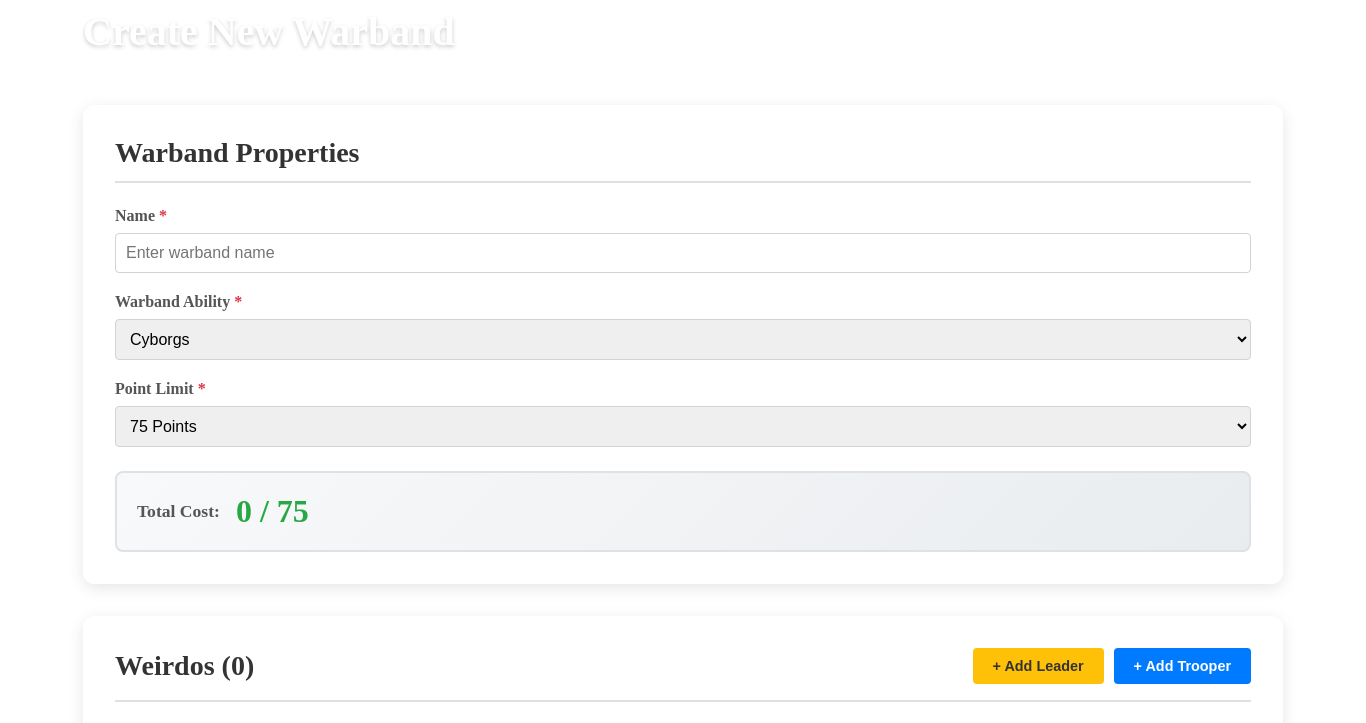
Test: WarbandEditor Component › Saving warband › should display success message after saving
Expected: the heading "Create New Warband" is shown, [83, 8, 455, 55]
Type "New Warband" into the field labelled "Name *" at x=683, y=253, box [115, 233, 1251, 273]
(page scrolled)
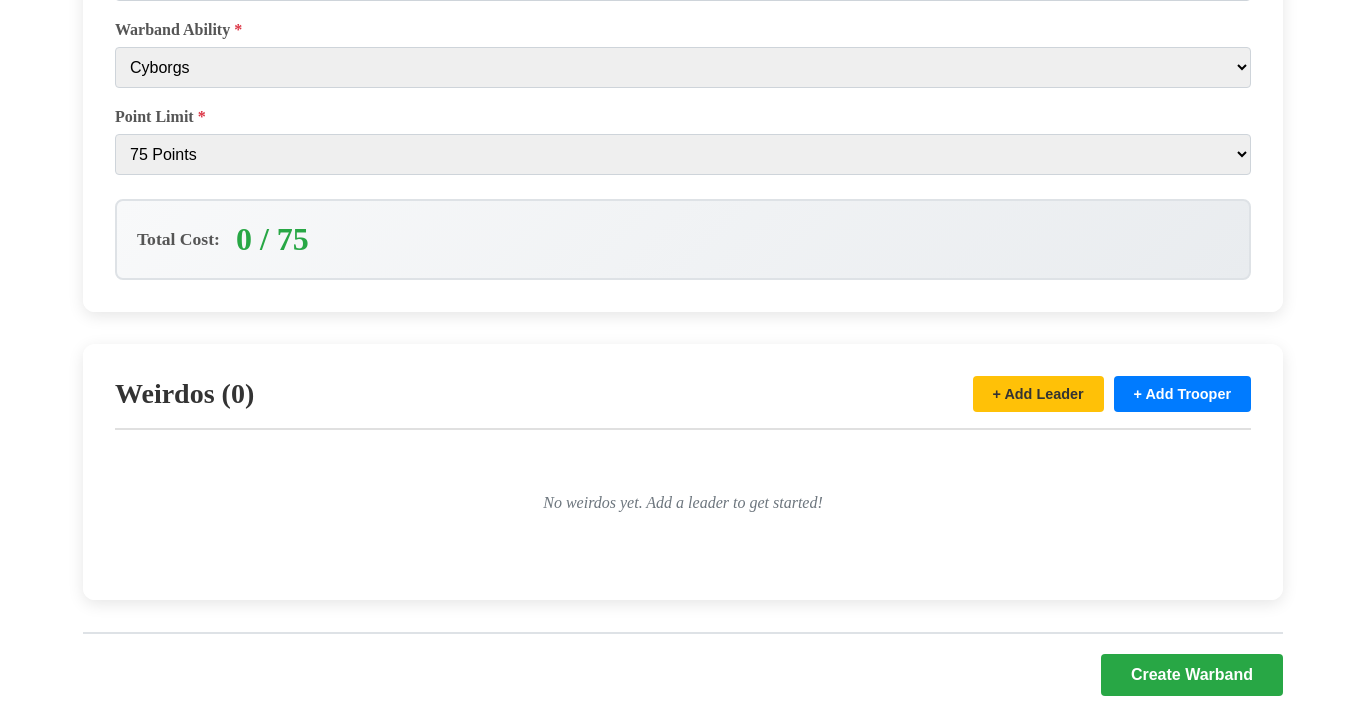
Click the button "Create Warband" at x=1192, y=675, box [1101, 654, 1283, 696]
(page scrolled)
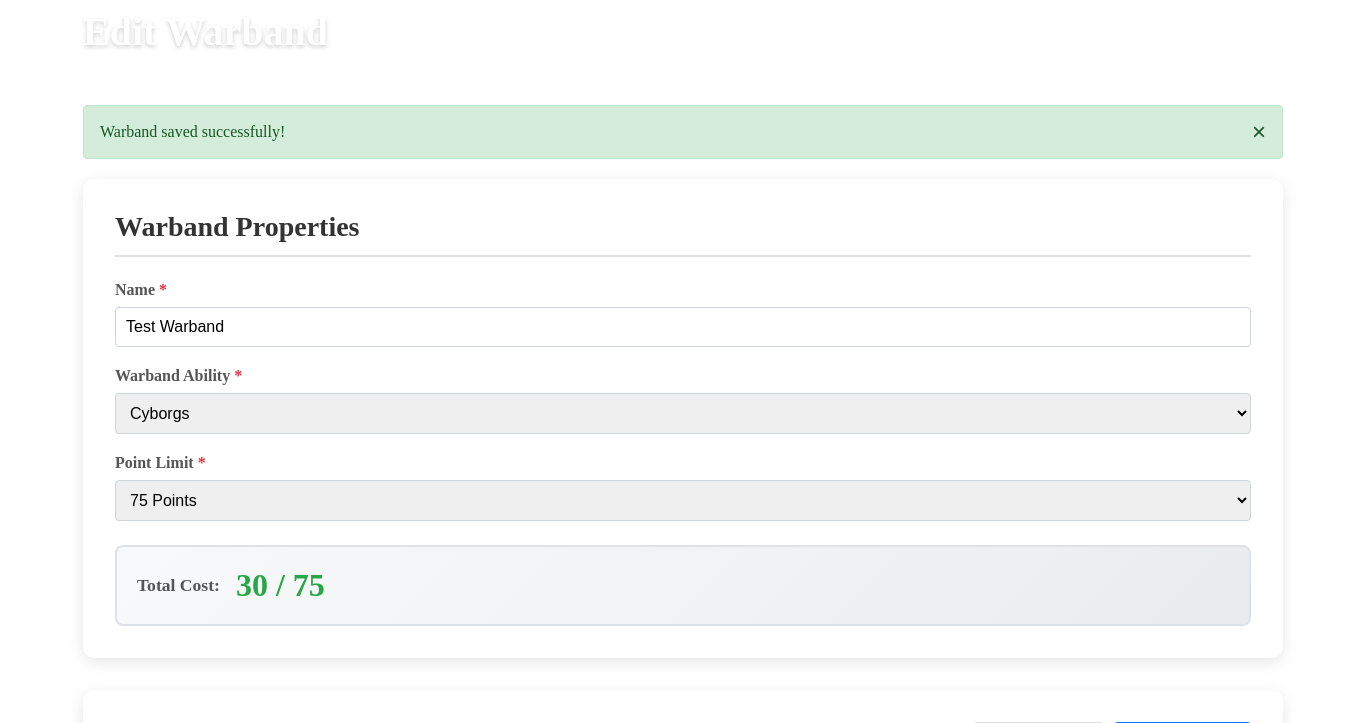
Expected: the text "Warband saved successfully!" is shown, [100, 123, 285, 140]
